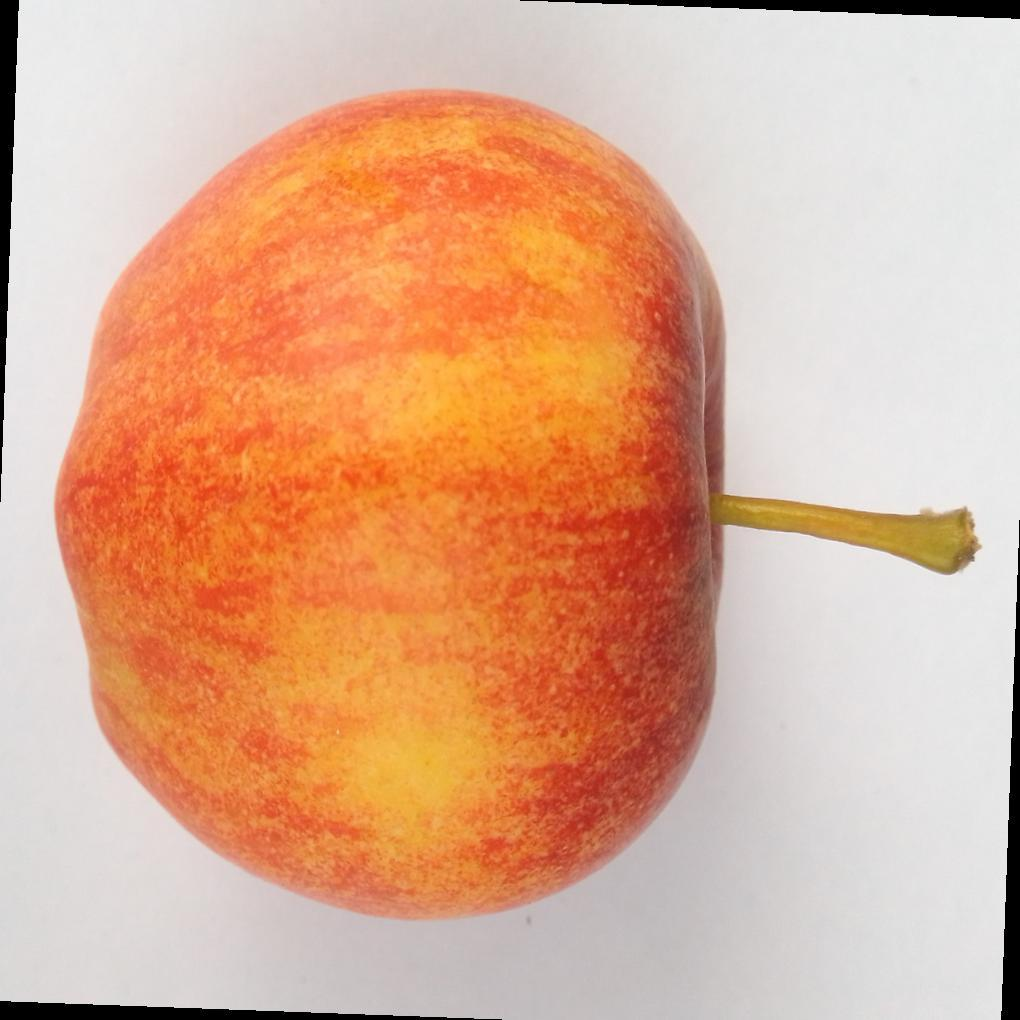FreshGuava: (52, 90, 739, 926)
